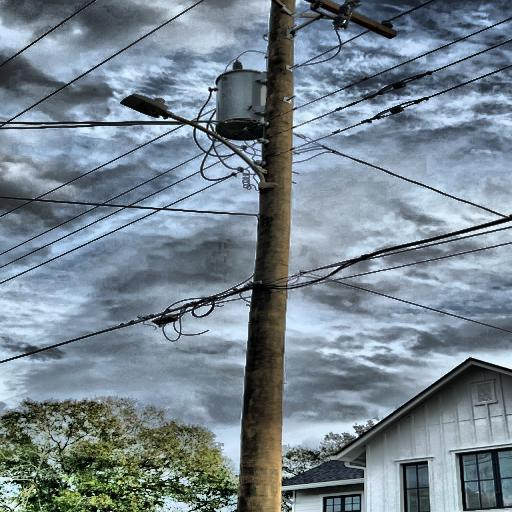pole: (213, 0, 304, 512)
street light: (115, 89, 278, 191)
transformer: (209, 64, 275, 142)
